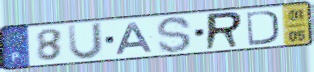8: (34, 27, 64, 63)
A: (114, 21, 156, 57)
D: (244, 9, 281, 48)
R: (203, 10, 245, 53)
S: (155, 15, 193, 54)
U: (66, 21, 105, 62)
